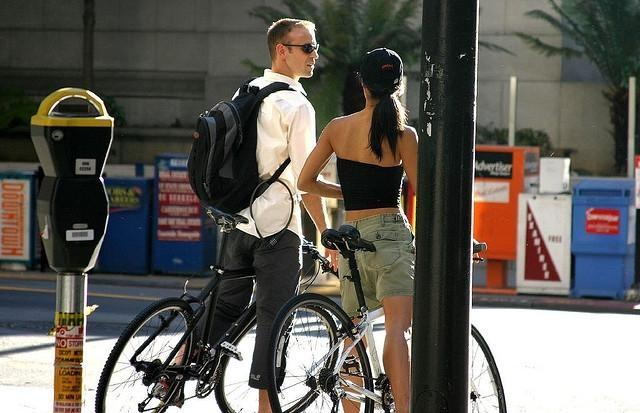bicycle: (93, 238, 340, 412), (266, 227, 506, 406)
